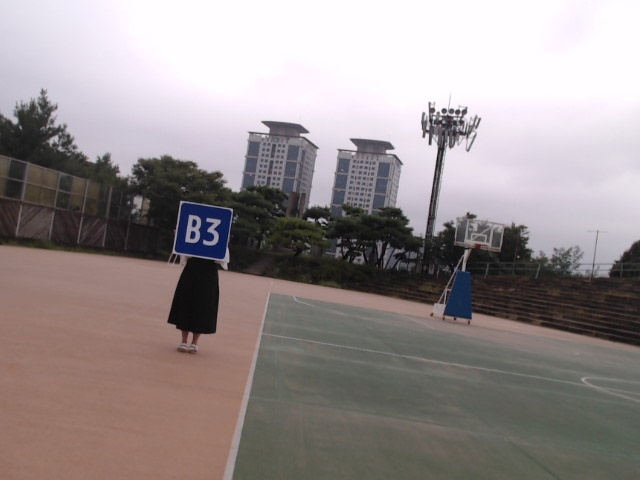delivery_b3: (173, 201, 232, 261)
